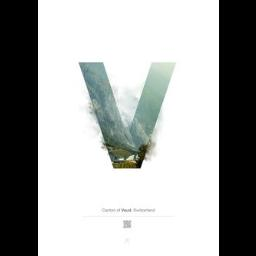v: (62, 55, 192, 173)
